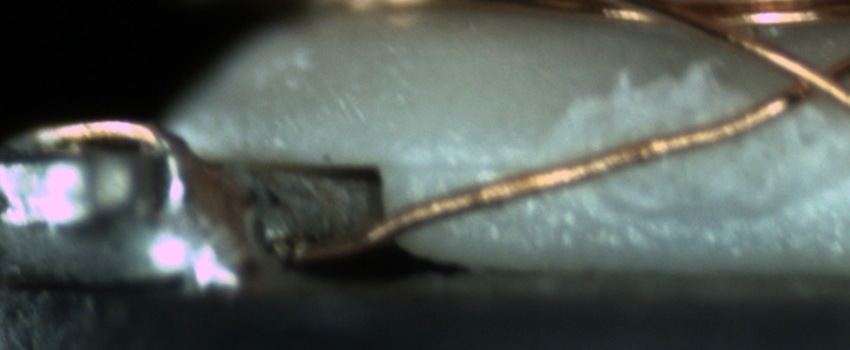CL: (765, 44, 848, 110)
DL: (401, 144, 524, 192)
TE: (30, 112, 195, 159)
